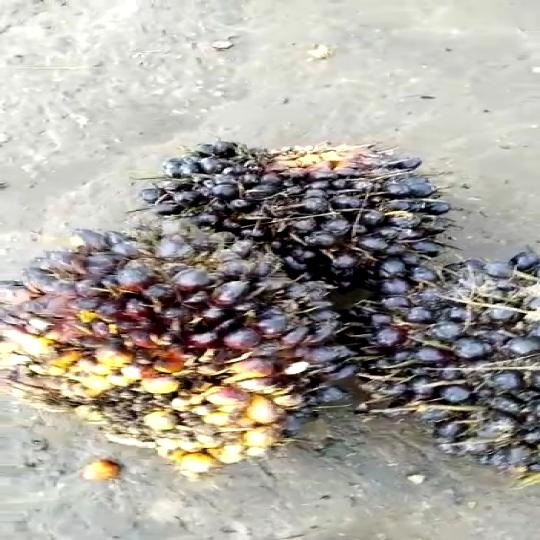mentah: (0, 220, 357, 478), (348, 226, 540, 494), (148, 148, 463, 288)
